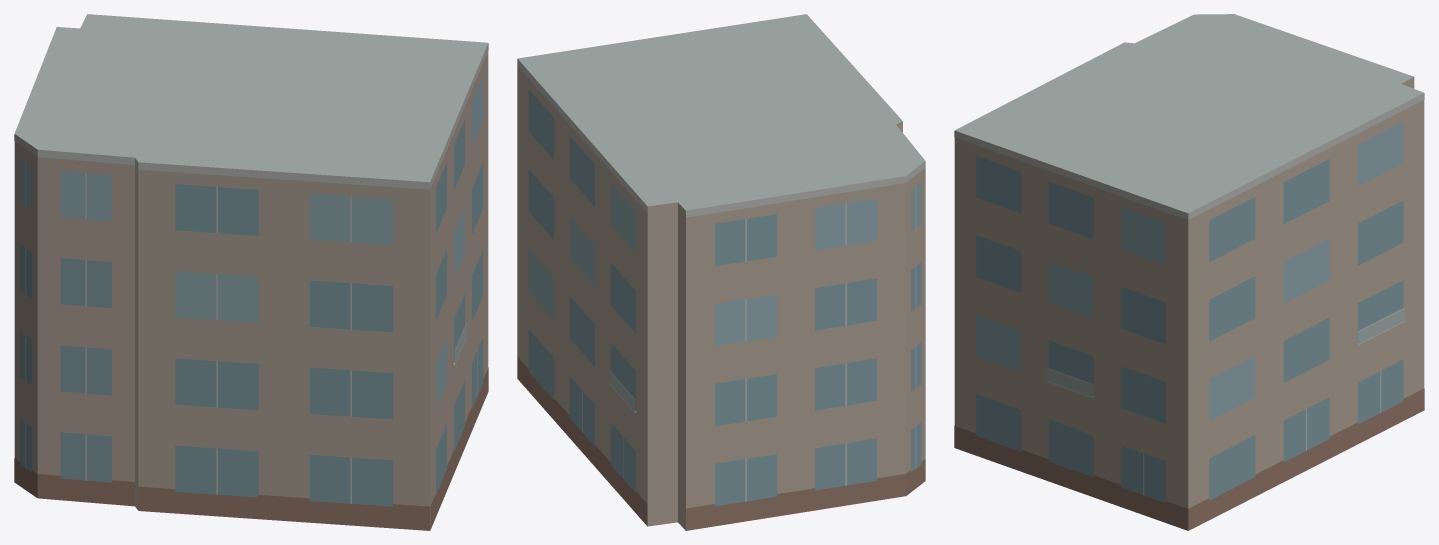
File: survey-upis-32609595.glb
3 views of the same model, side by side, from view 1: azimuth 30°, elevation 25°; view 2: azimuth 150°, elevation 25°; view 3: azimuth 270°, elevation 25° (orthographic). The views are drawn at different scales.
Visible parts, largest first — view 1: survey-upis-32609595.tmp; view 2: survey-upis-32609595.tmp; view 3: survey-upis-32609595.tmp.
Boxes of the visible parts, x1,y1,x2,y2 form: survey-upis-32609595.tmp: (14, 14, 488, 530); survey-upis-32609595.tmp: (517, 14, 925, 530); survey-upis-32609595.tmp: (954, 14, 1424, 530).
Bounding box in the file's own units: 15.37 × 11.4 × 15.31.
